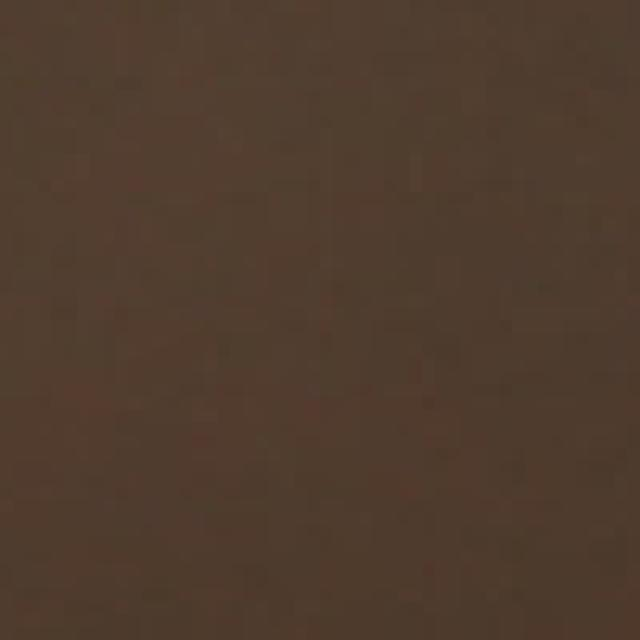fire: (0, 32, 640, 575)
